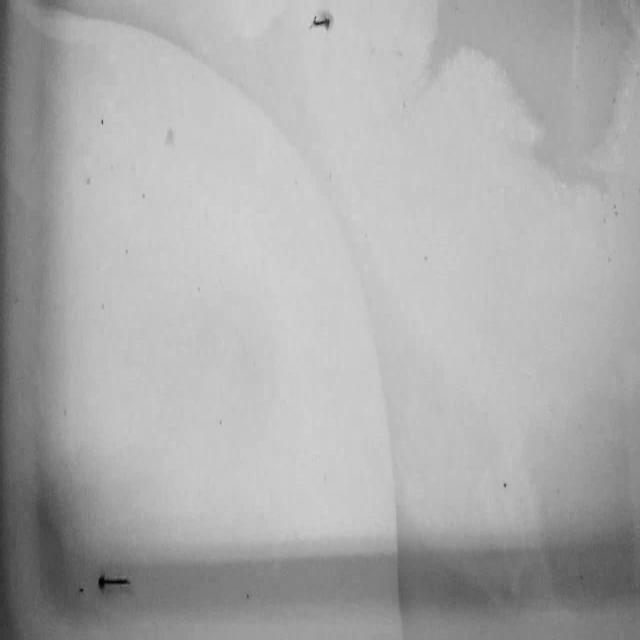larvas: (308, 13, 330, 30)
